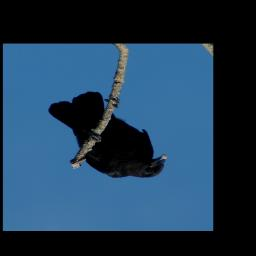Crow: (43, 81, 174, 192)
